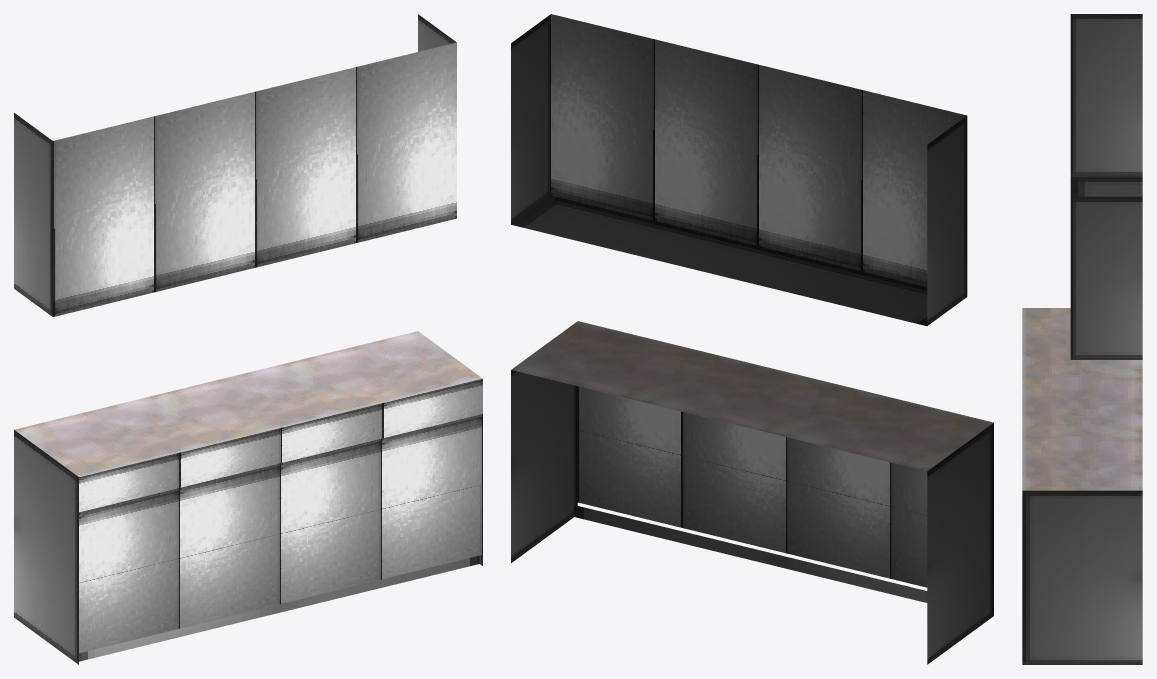
File: Pkit_units1Z.obj
3 views of the same model, side by side, from view 1: azimuth 30°, elevation 25°; view 2: azimuth 150°, elevation 25°; view 3: azimuth 270°, elevation 25° (orthographic). The views are drawn at different scales.
Size of the model in its own units: 2100 by 2508 by 584.
Materials: 4 (4 with a texture image).
